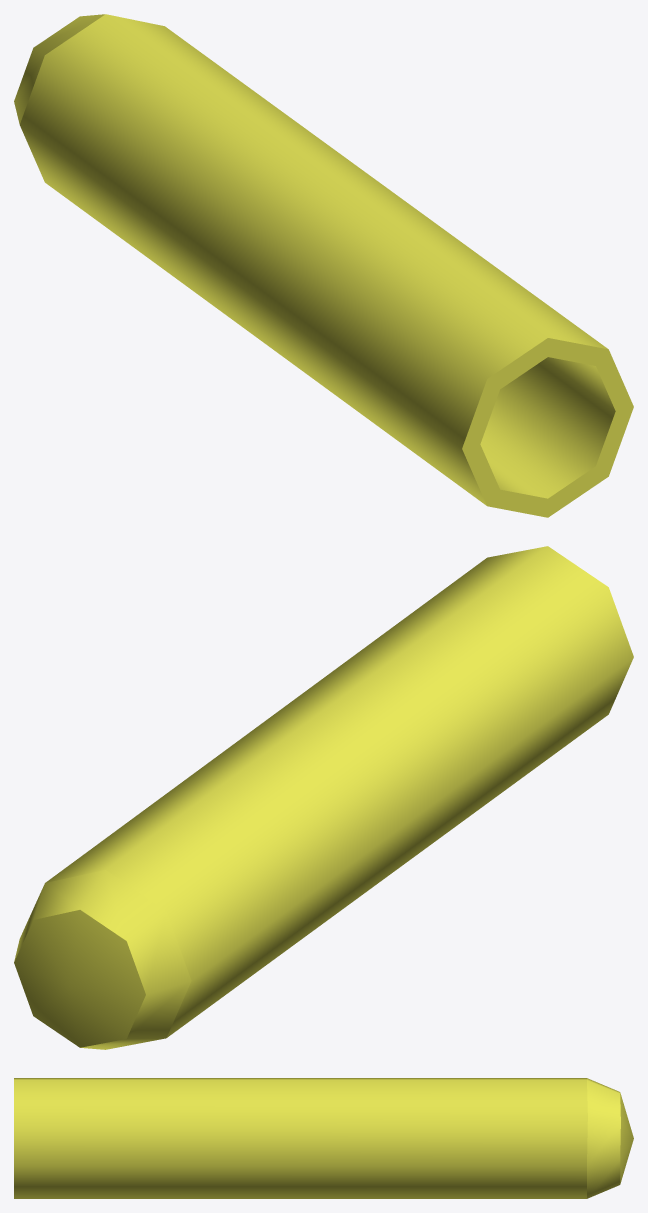
Rendered from Tapita M.fbx.
The picture shows the model from 3 angles, top to bottom: view 1: azimuth 30°, elevation 25°; view 2: azimuth 150°, elevation 25°; view 3: azimuth 270°, elevation 25°; orthographic projection. The views are drawn at different scales.
Visible parts, largest first — view 1: Tapita_M; view 2: Tapita_M; view 3: Tapita_M.
Part boxes in pixels (x1=…): Tapita_M: x1=14, y1=14, x2=633, y2=517; Tapita_M: x1=14, y1=546, x2=633, y2=1049; Tapita_M: x1=14, y1=1078, x2=633, y2=1198.
Bounding box in the file's own units: 0.0203 × 0.0203 × 0.098.
